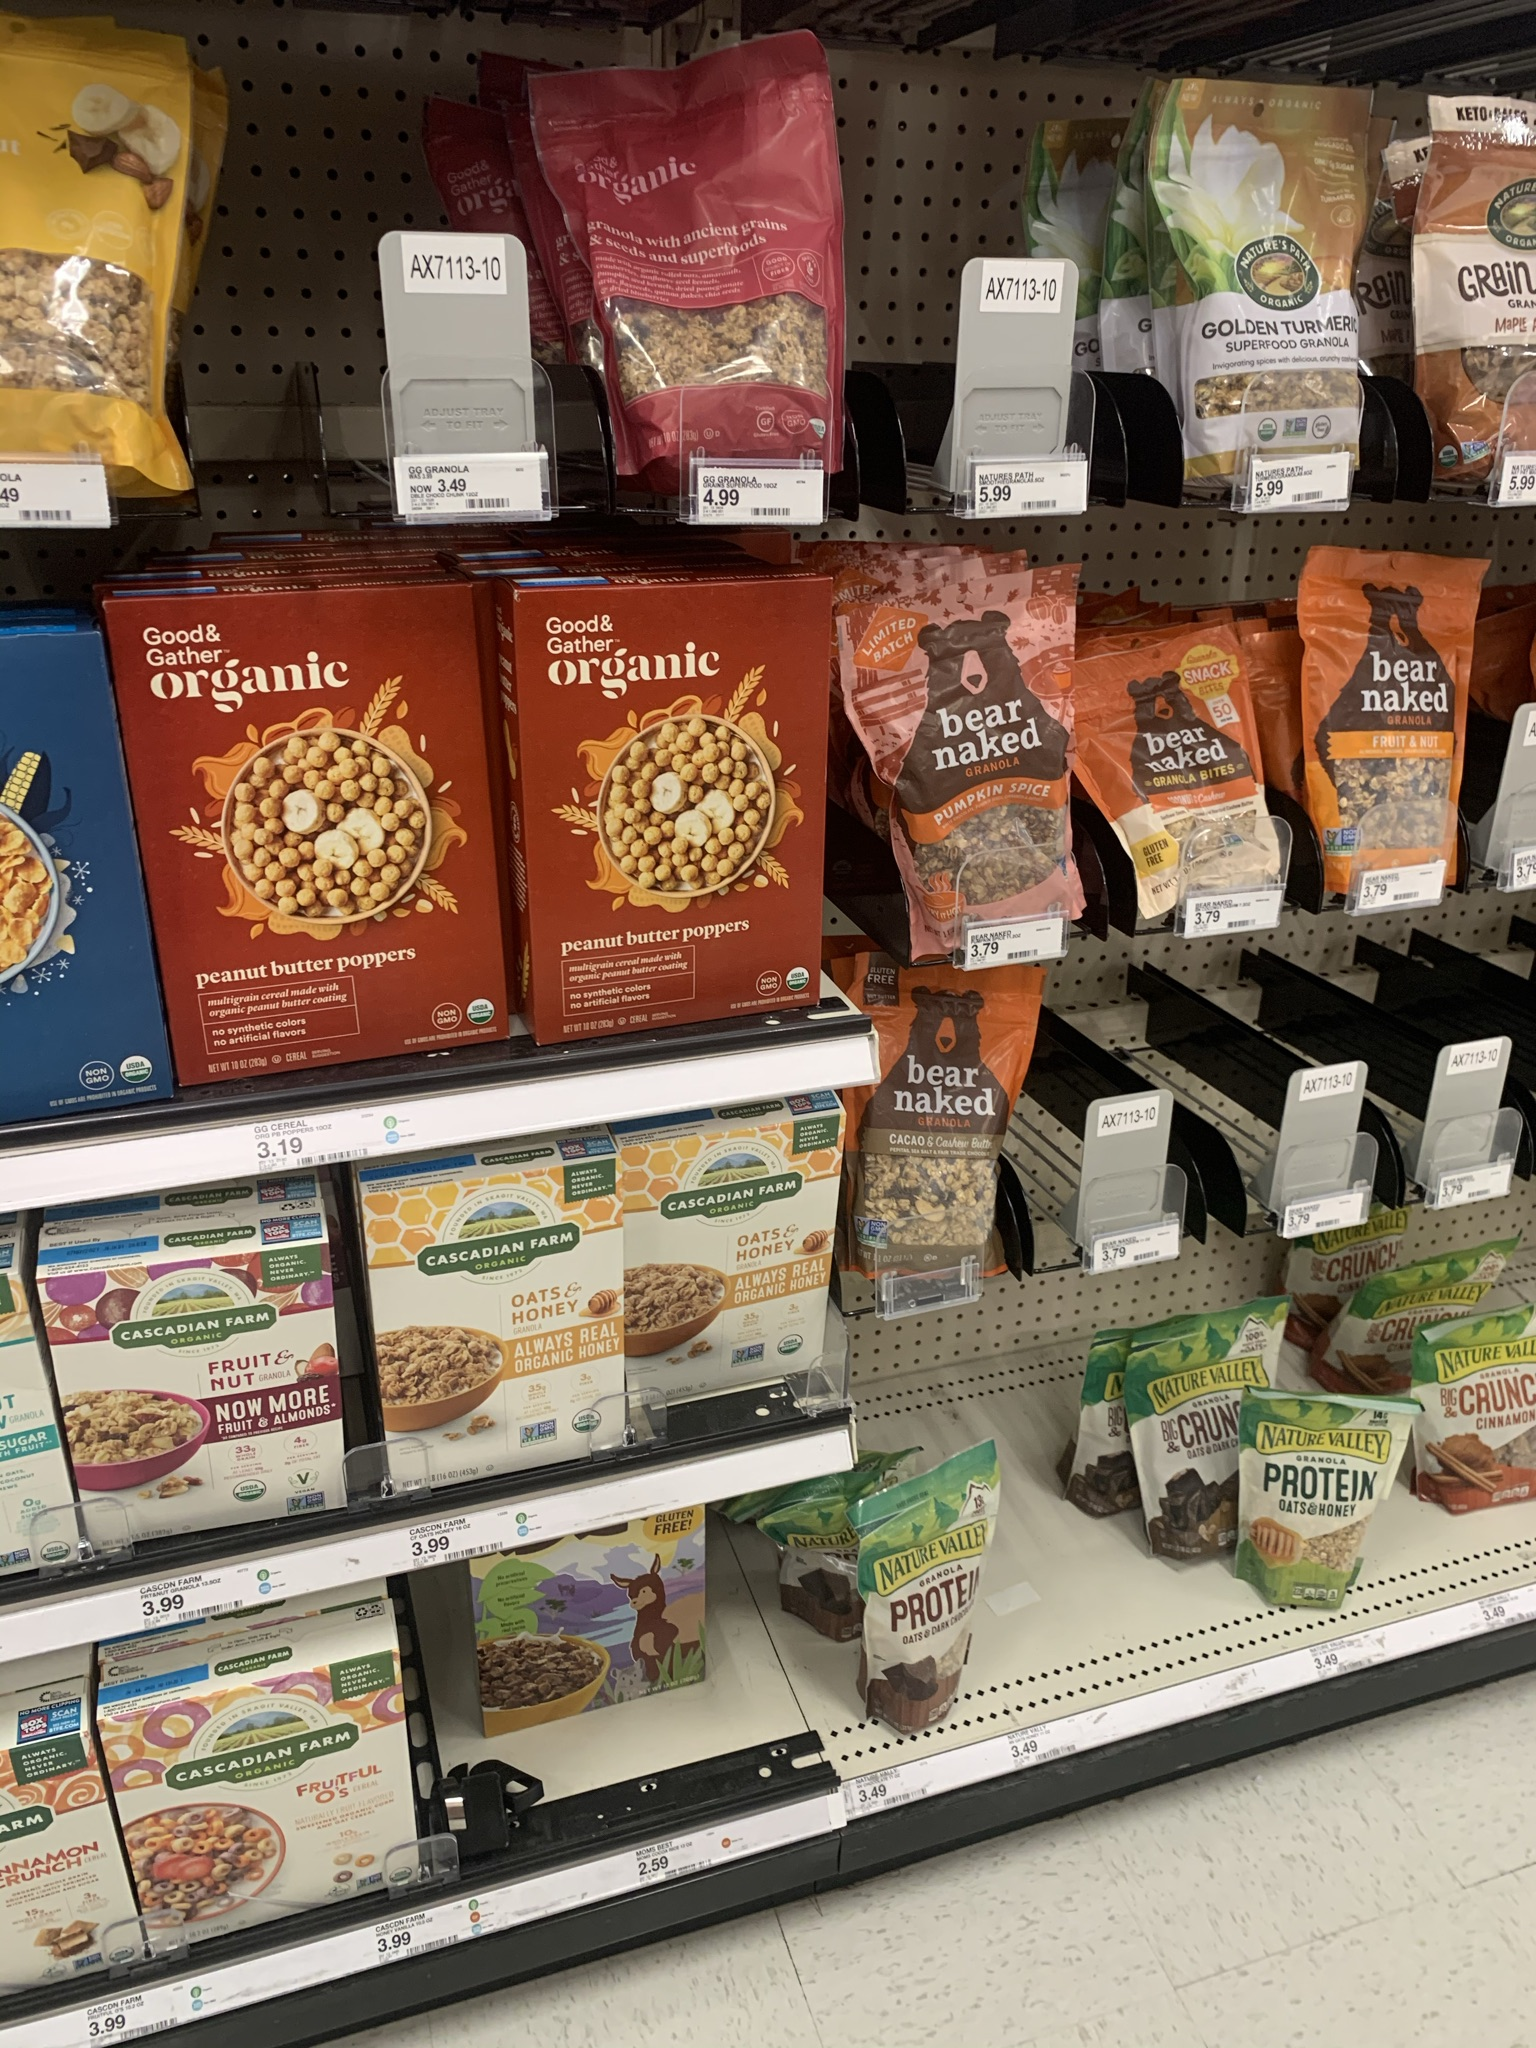cereal: (115, 598, 505, 1084), (532, 585, 824, 1018), (144, 1622, 415, 1975), (81, 1187, 336, 1545), (639, 1126, 886, 1429), (395, 1147, 608, 1472)
